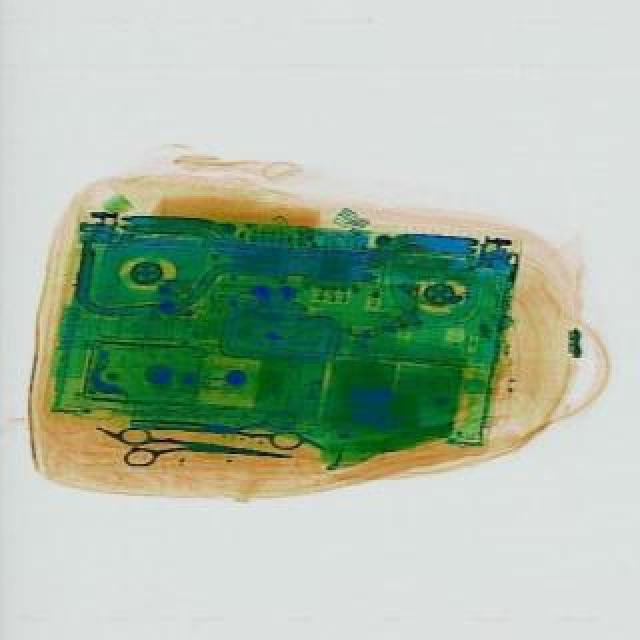pliers: (114, 424, 296, 476), (126, 400, 302, 452)
